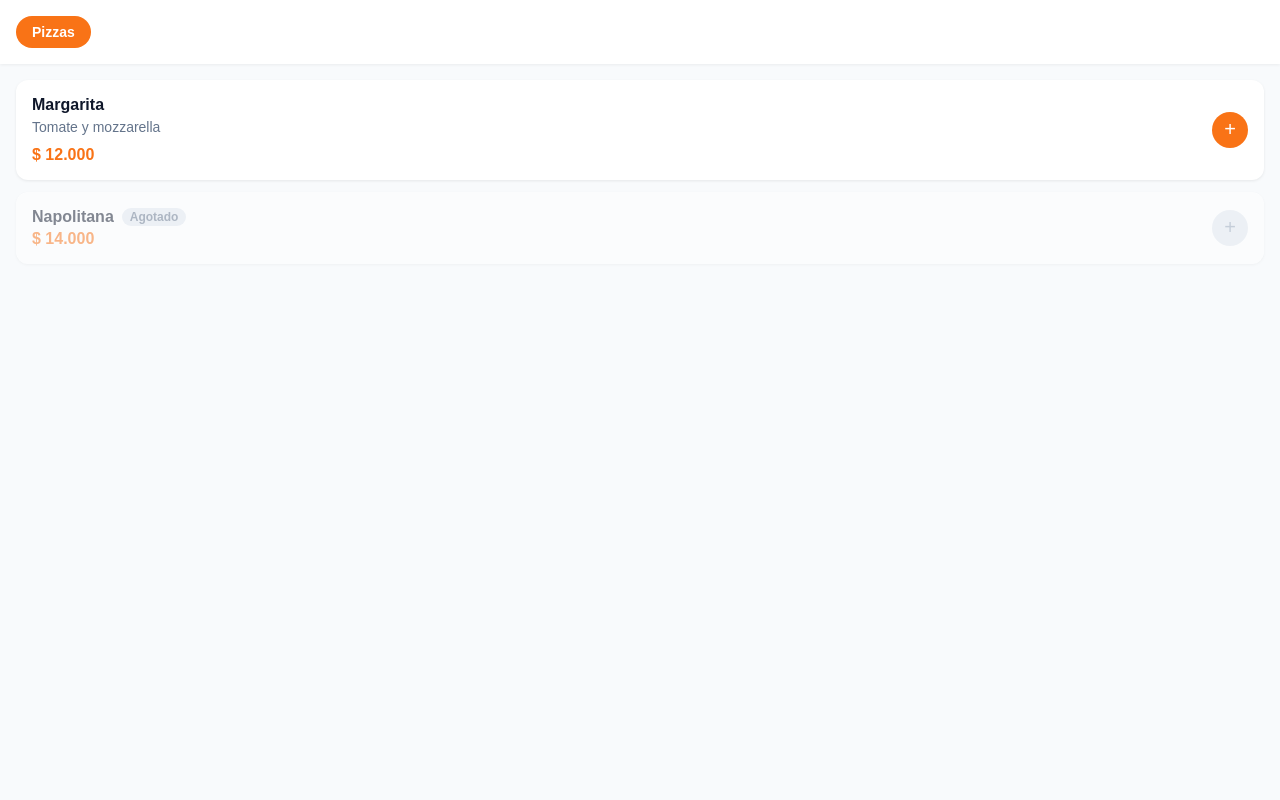
Test: MenuPage › opens ItemDetailSheet when clicking the item card body
Click the button with aria-label "Ver detalles de Margarita" at (68, 104), box [16,80,1196,180]
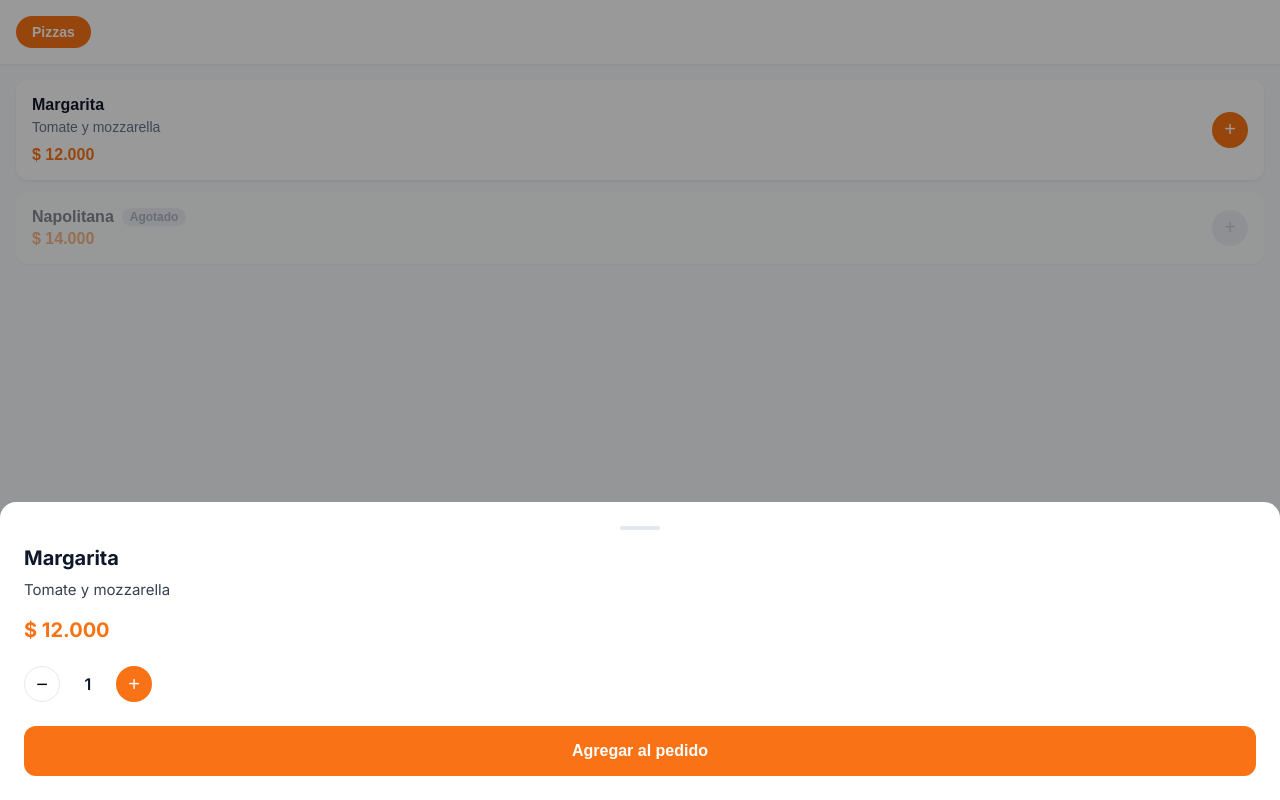
Check: the dialog "Margarita" is shown, box [0,502,1279,799]
